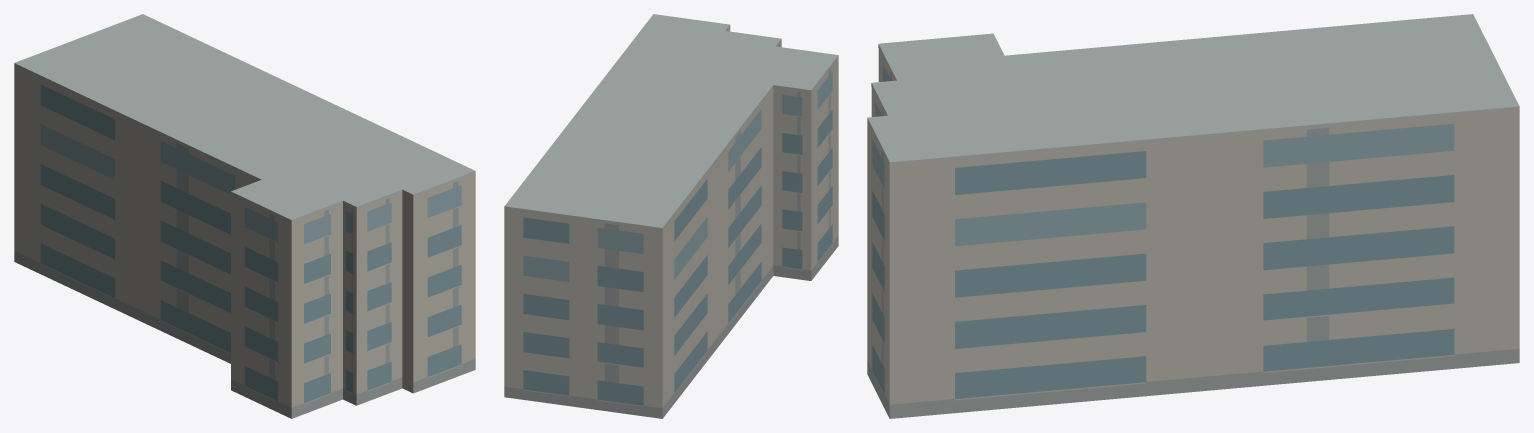
File: survey-upis-33017488.glb
3 renders of one model, left to right at view 1: azimuth 30°, elevation 25°; view 2: azimuth 150°, elevation 25°; view 3: azimuth 270°, elevation 25°, orthographic. The views are drawn at different scales.
Visible parts, largest first — view 1: survey-upis-33017488.tmp; view 2: survey-upis-33017488.tmp; view 3: survey-upis-33017488.tmp.
Part boxes in pixels (bbox=[...]): survey-upis-33017488.tmp: bbox=[14, 14, 475, 418]; survey-upis-33017488.tmp: bbox=[504, 14, 838, 418]; survey-upis-33017488.tmp: bbox=[867, 14, 1519, 418].
Size of the model in its own units: 18.11 by 14.6 by 33.65.
